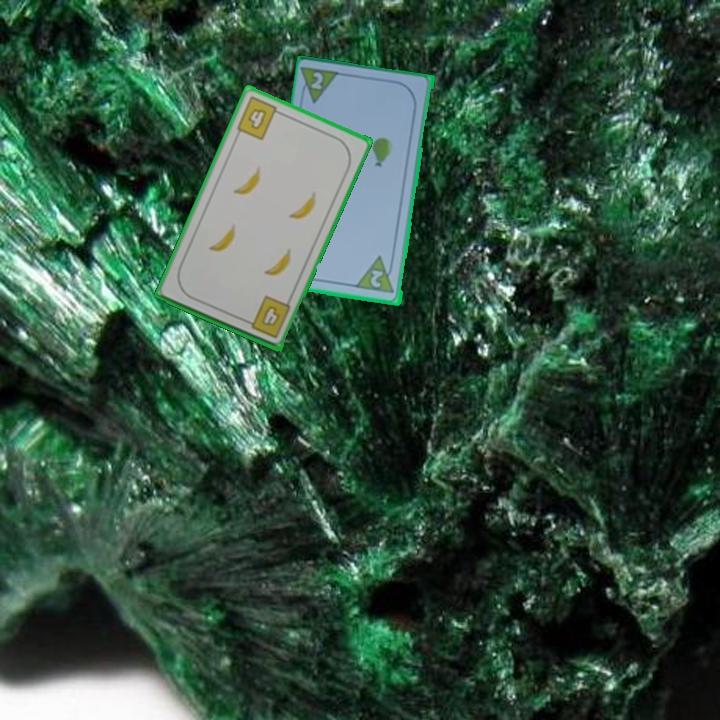2p: (367, 266, 386, 291), (308, 68, 326, 93)
4b: (233, 93, 286, 143), (241, 292, 293, 341)
